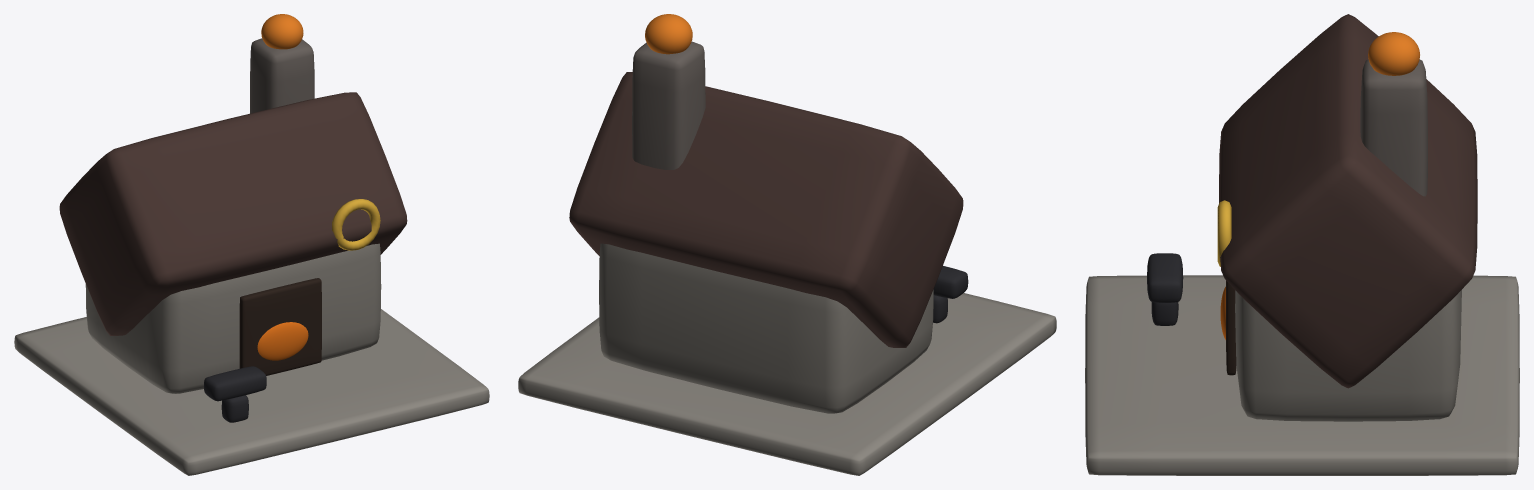
The model's file is Schmiede.fbx.
3 views of the same model, side by side, from view 1: azimuth 30°, elevation 25°; view 2: azimuth 150°, elevation 25°; view 3: azimuth 270°, elevation 25° (orthographic). The views are drawn at different scales.
Visible parts, largest first — view 1: Schmiede; view 2: Schmiede; view 3: Schmiede.
Part boxes in pixels (x1,y1,x2,y2): Schmiede: (14, 14, 489, 475); Schmiede: (518, 14, 1056, 475); Schmiede: (1085, 14, 1519, 475).
Size of the model in its own units: 1.9 by 1.9 by 1.9.
